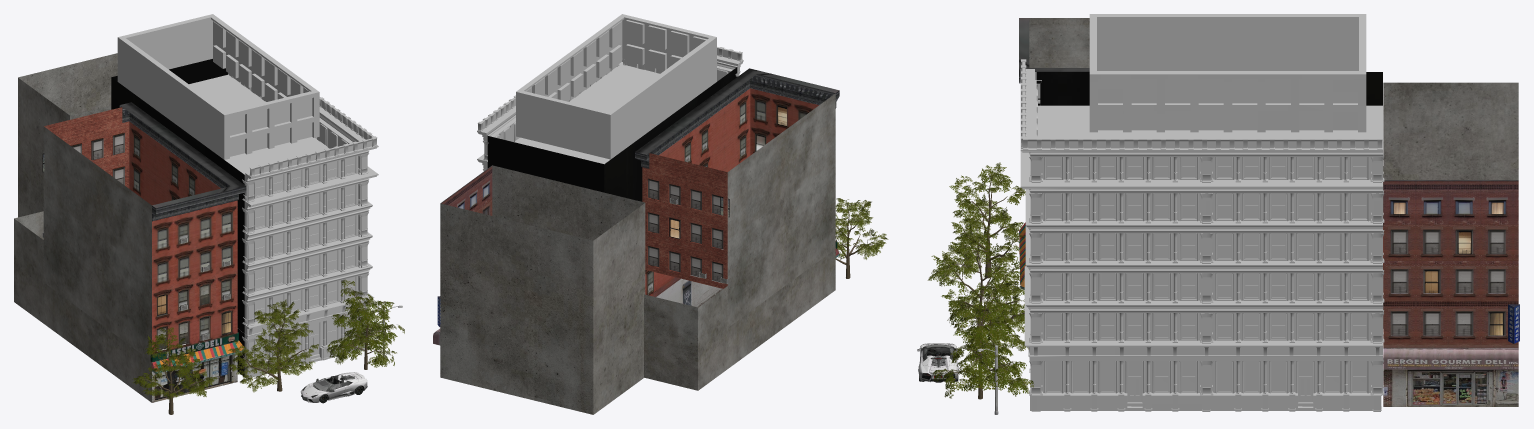
The model's file is city3_00.gltf.
The picture shows the model from 3 angles, left to right: view 1: azimuth 30°, elevation 25°; view 2: azimuth 150°, elevation 25°; view 3: azimuth 270°, elevation 25°; orthographic projection. The views are drawn at different scales.
Parts seen in each view (by area): view 1: city3_00; view 2: city3_00; view 3: city3_00.
Part boxes in pixels (x1,y1,x2,y2): city3_00: (14,14,404,414); city3_00: (433,14,888,414); city3_00: (917,14,1519,414).
Bounding box in the file's own units: 46.5 × 41.72 × 70.57.
